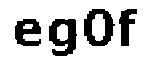0: (82, 5, 116, 49)
e: (11, 15, 44, 51)
f: (117, 7, 141, 53)
g: (45, 16, 80, 60)
